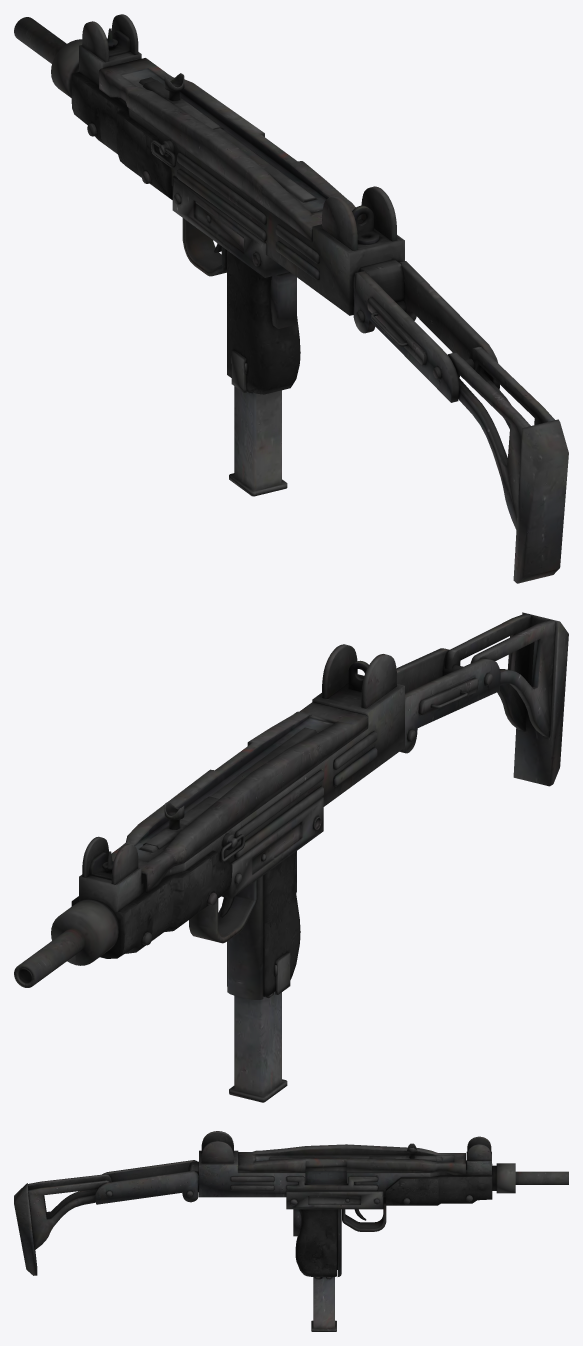
Rendered from Uzi.glb.
3 views of the same model, one above another, from view 1: azimuth 30°, elevation 25°; view 2: azimuth 150°, elevation 25°; view 3: azimuth 270°, elevation 25° (orthographic). The views are drawn at different scales.
Visible parts, largest first — view 1: Uzi; view 2: Uzi; view 3: Uzi.
Boxes of the visible parts, bbox=[...] form: Uzi: bbox=[14, 14, 568, 583]; Uzi: bbox=[14, 612, 568, 1102]; Uzi: bbox=[14, 1131, 568, 1331].
Size of the model in its own units: 0.0515 by 0.2496 by 0.6581.
1 material, 1 textured.
